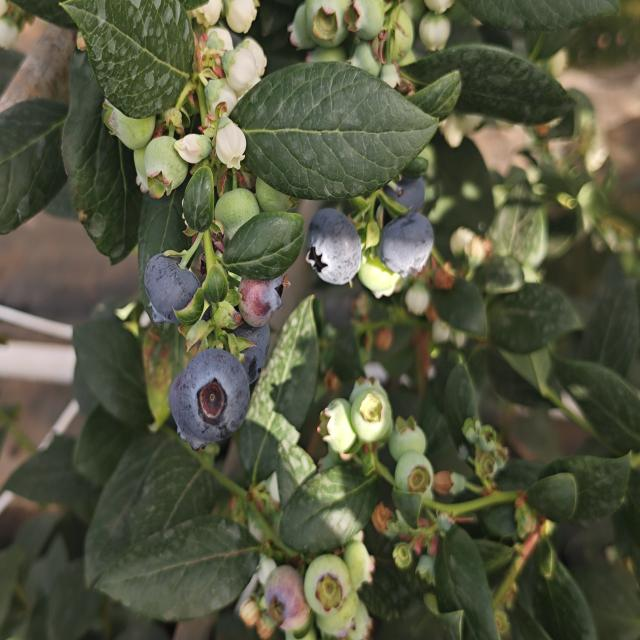ripe: (163, 344, 240, 447), (365, 163, 439, 231), (306, 206, 362, 294), (225, 315, 280, 389), (379, 212, 444, 270), (142, 253, 195, 320)
